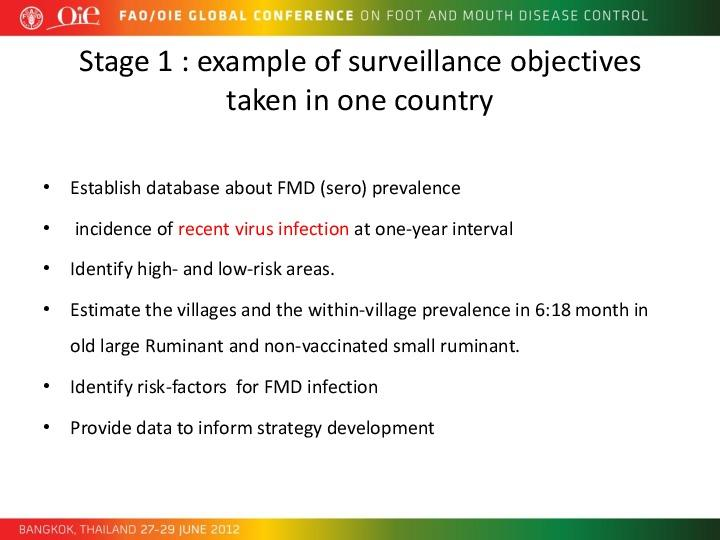paragraph: (29, 166, 693, 467)
subtitle: (75, 40, 658, 126)
title: (115, 4, 657, 31)
